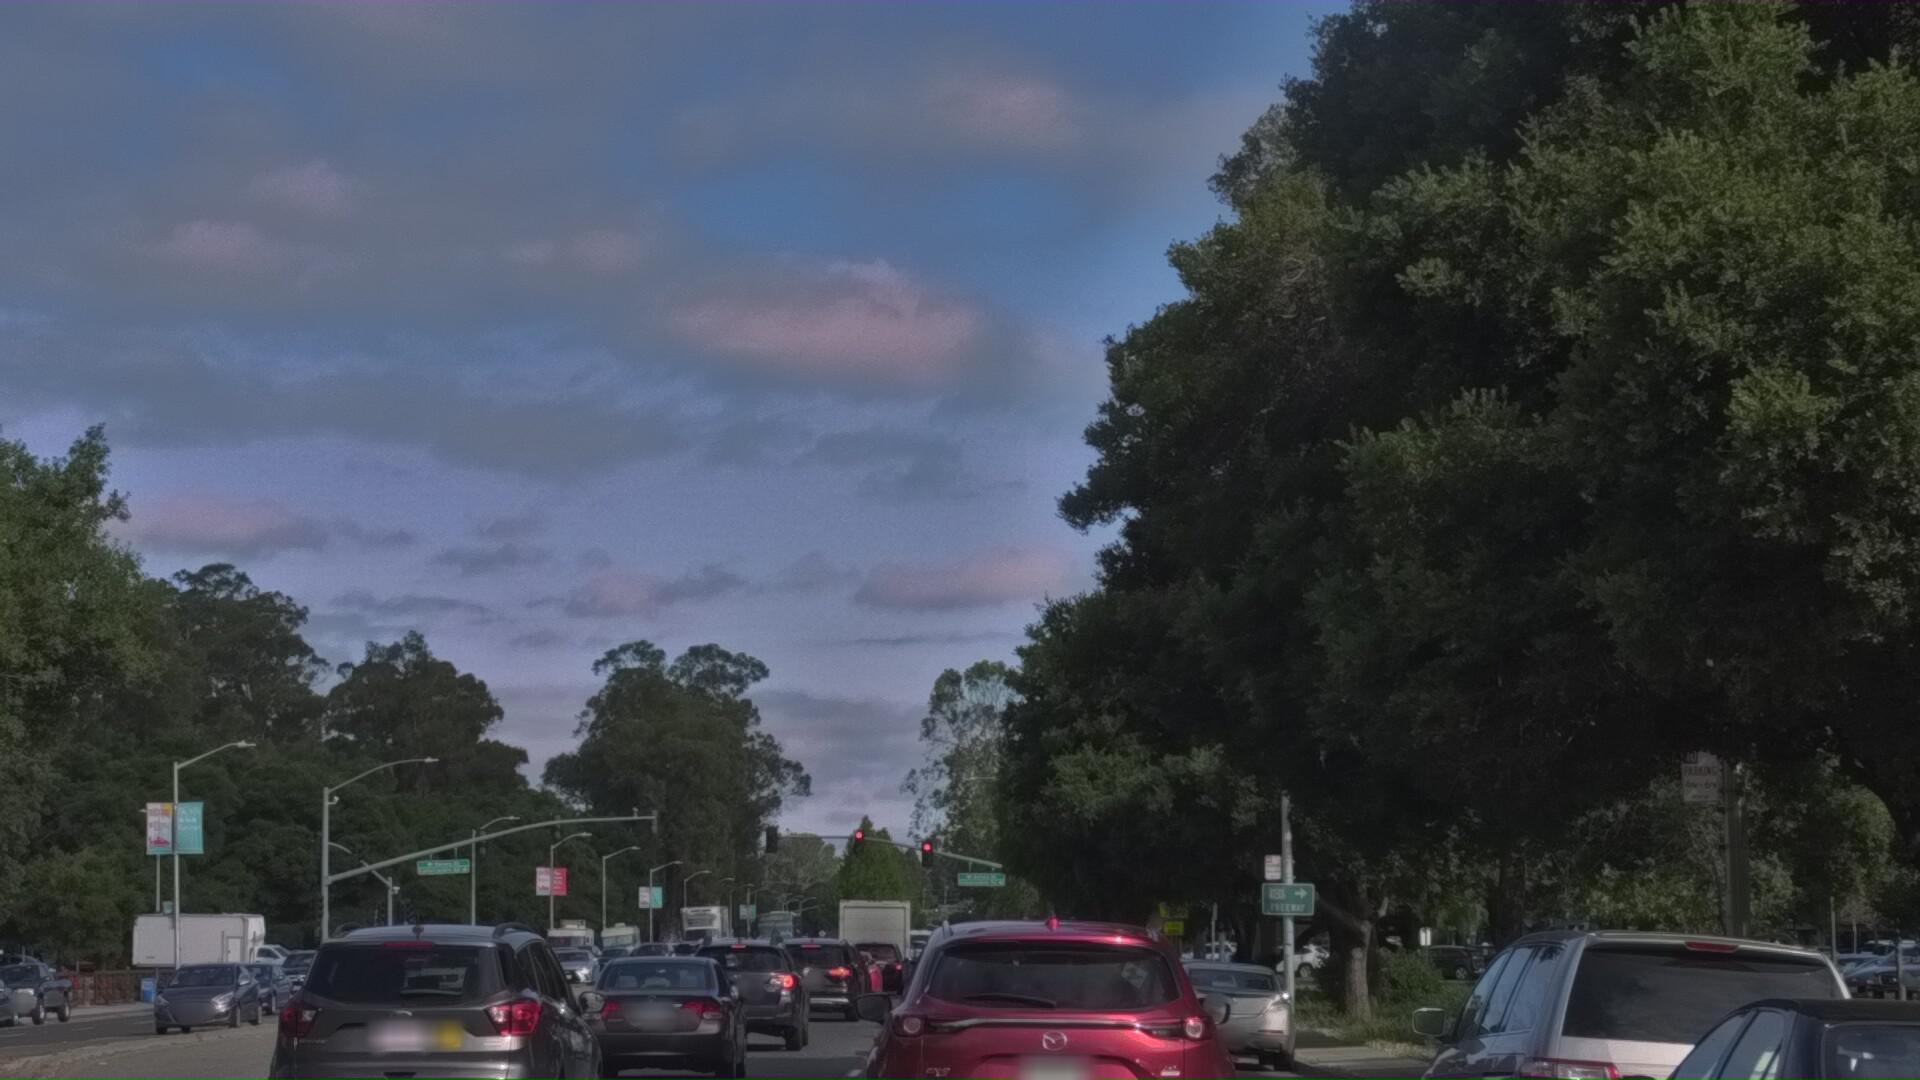car: (1371, 971, 1920, 1080), (839, 980, 1279, 1080), (1780, 808, 1920, 1080), (241, 997, 618, 1080), (1526, 1030, 1920, 1080), (657, 1035, 814, 1080), (1142, 1038, 1300, 1080), (579, 1047, 775, 1080), (893, 1040, 1046, 1080), (760, 1039, 874, 1080), (129, 1076, 269, 1080)
